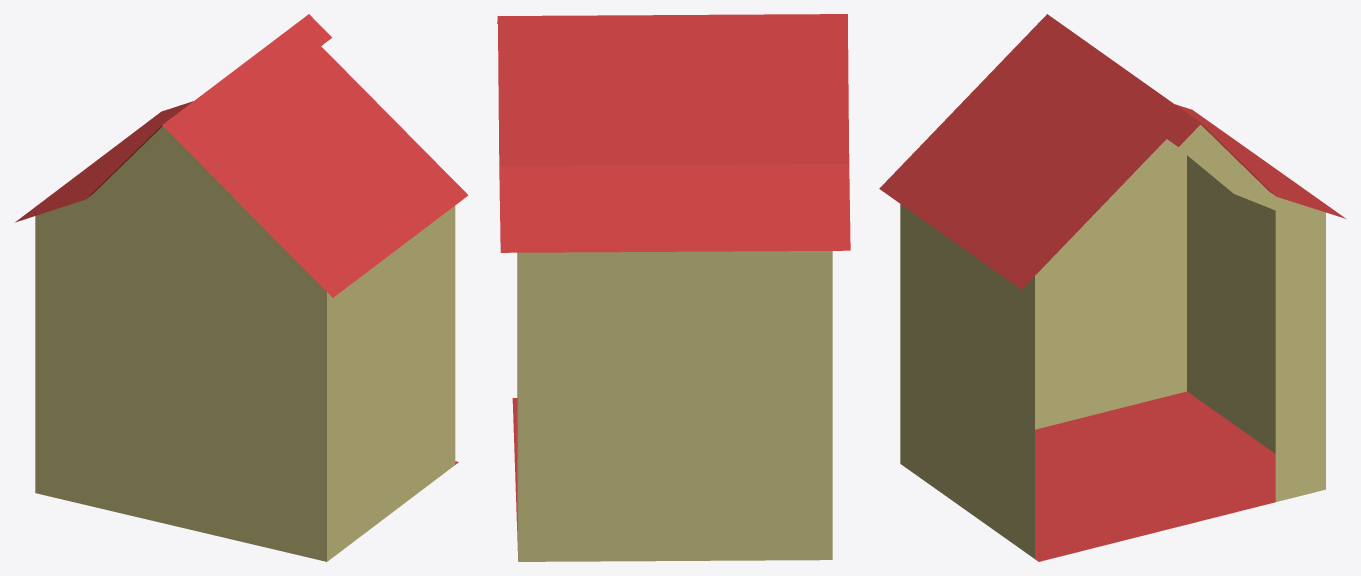
The picture shows the model from 3 angles, left to right: view 1: azimuth 30°, elevation 25°; view 2: azimuth 150°, elevation 25°; view 3: azimuth 270°, elevation 25°; orthographic projection. The views are drawn at different scales.
Size of the model in its own units: 13.87 by 15.23 by 14.56.
